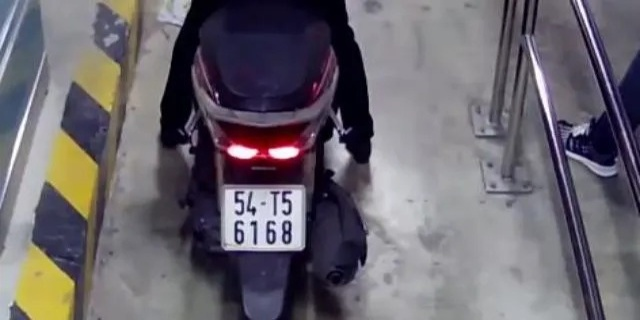bien_so: (222, 184, 306, 253)
